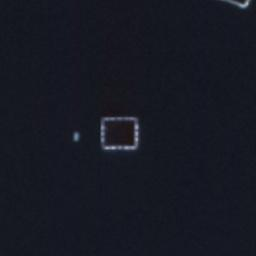square_solid: (99, 113, 142, 155)
